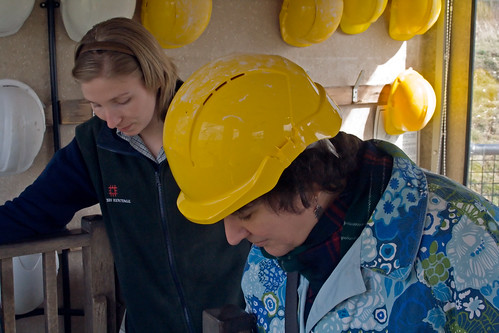hardhat: (1, 75, 49, 171), (384, 66, 437, 147), (140, 1, 217, 49), (276, 1, 348, 51), (59, 2, 142, 42), (389, 1, 443, 54), (341, 1, 386, 40), (1, 1, 30, 38)
person hardhat: (140, 55, 499, 331)
